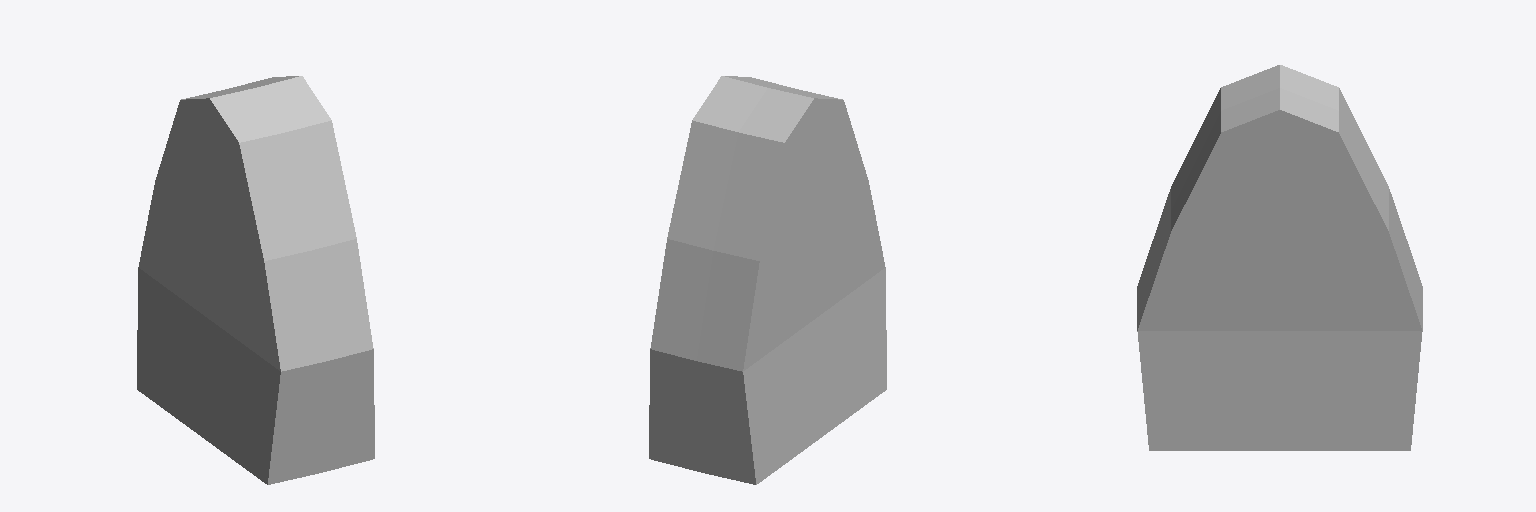
File: cover.obj
The picture shows the model from 3 angles: view 1: azimuth 30°, elevation 25°; view 2: azimuth 150°, elevation 25°; view 3: azimuth 270°, elevation 25°; orthographic projection.
Visible parts, largest first — view 1: cover_Sphere.009; view 2: cover_Sphere.009; view 3: cover_Sphere.009.
Part boxes in pixels (bbox=[...]): cover_Sphere.009: bbox=[137, 76, 374, 484]; cover_Sphere.009: bbox=[649, 76, 886, 484]; cover_Sphere.009: bbox=[1137, 65, 1422, 450].
Bounding box in the file's own units: 1.05 × 3.14 × 2.4.